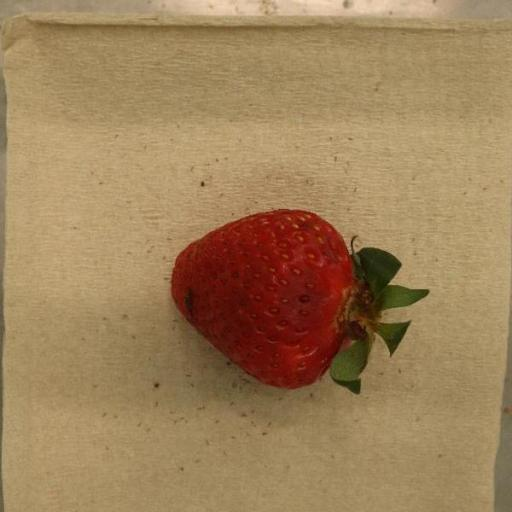Strawberry: (171, 210, 431, 395)
